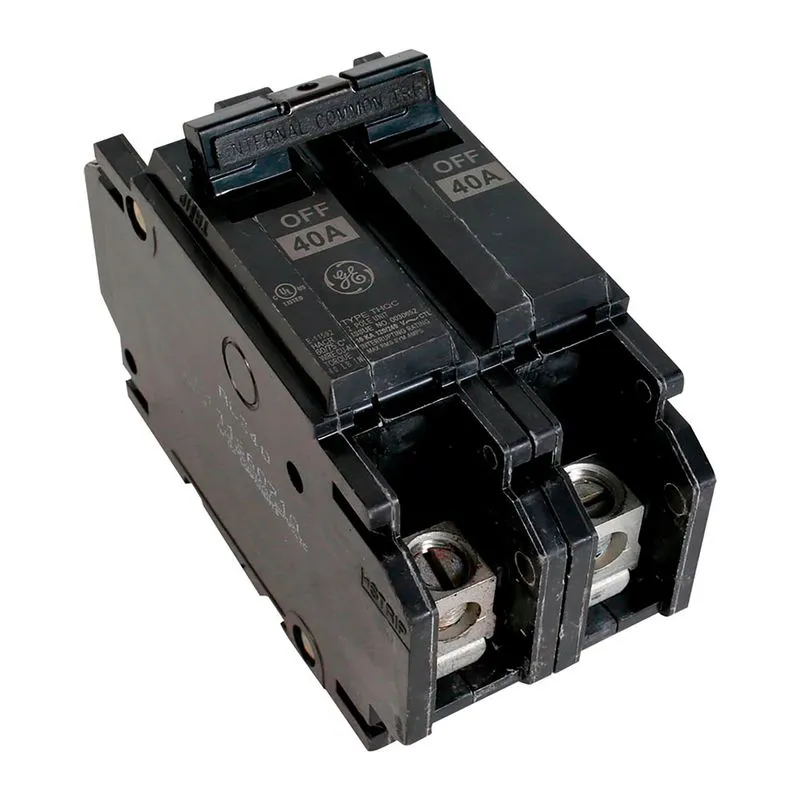BREACKER: (63, 41, 721, 756)
